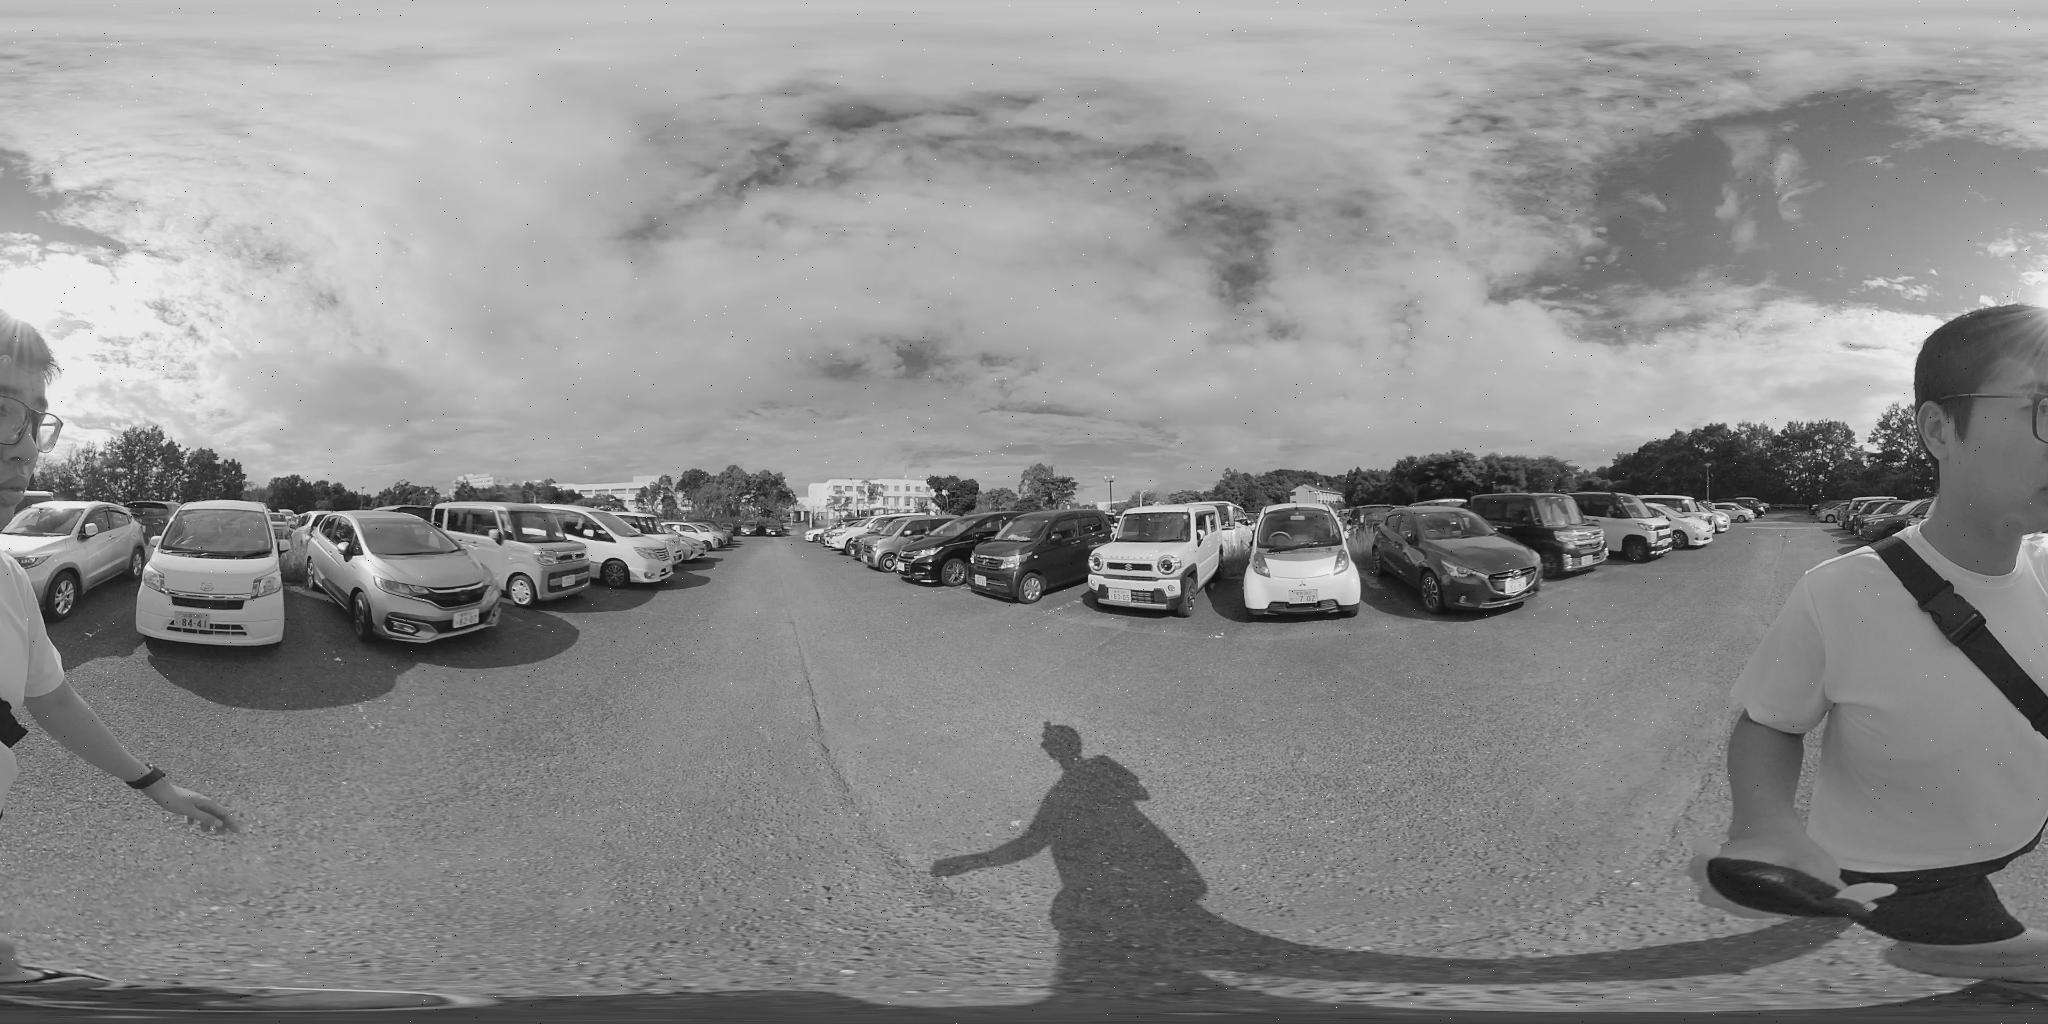car: (296, 512, 508, 644), (424, 502, 686, 597), (141, 507, 289, 645), (1364, 507, 1550, 613), (0, 498, 155, 618), (956, 509, 1118, 600), (1237, 505, 1364, 619), (1091, 503, 1221, 607), (1465, 492, 1629, 569), (861, 515, 993, 581), (1599, 499, 1702, 559), (1633, 494, 1719, 546), (1839, 496, 1929, 534), (658, 520, 738, 555), (1721, 498, 1771, 519)
